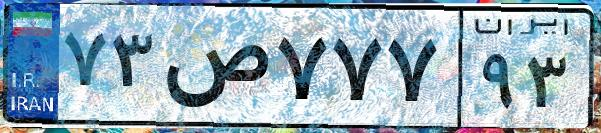3: (525, 38, 570, 115), (110, 28, 158, 98)
7: (270, 28, 330, 110), (385, 28, 445, 110), (330, 28, 385, 110), (57, 26, 110, 100)
9: (475, 38, 525, 113)
ص: (158, 20, 270, 120)
